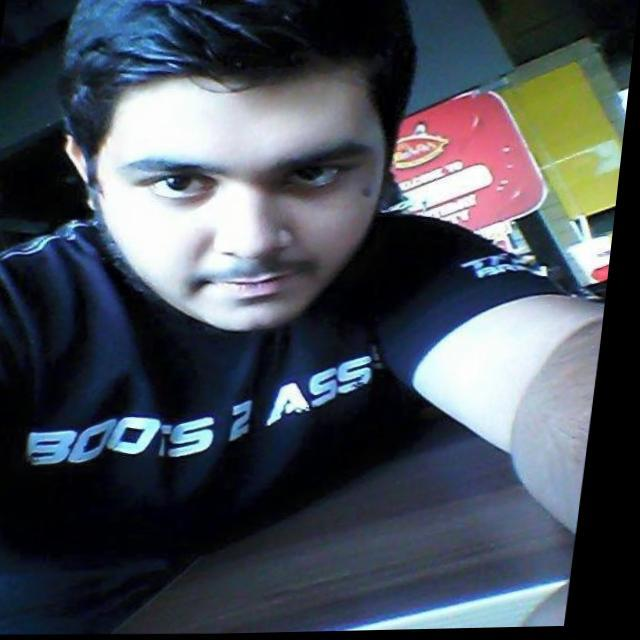Nonhelmet: (53, 1, 419, 336)
